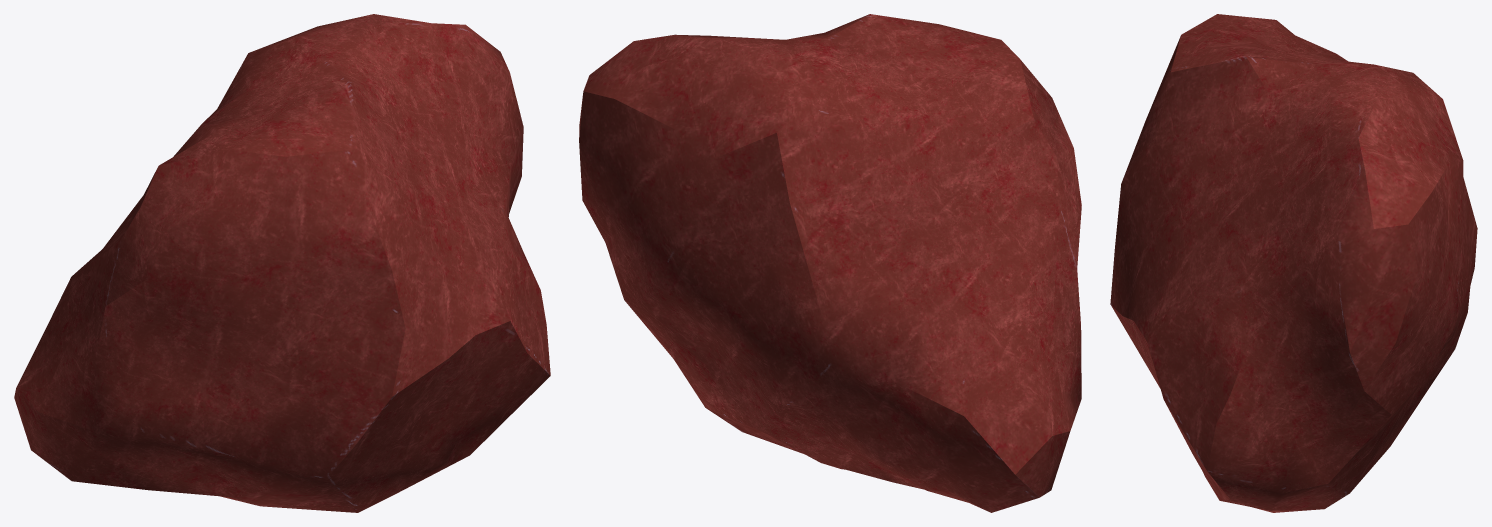
File: StoneStandard_2.fbx
3 views of the same model, side by side, from view 1: azimuth 30°, elevation 25°; view 2: azimuth 150°, elevation 25°; view 3: azimuth 270°, elevation 25° (orthographic).
Visible parts, largest first — view 1: StoneStandard_2; view 2: StoneStandard_2; view 3: StoneStandard_2.
Part boxes in pixels (x1,y1,x2,y2): StoneStandard_2: (14,14,550,512); StoneStandard_2: (579,14,1081,512); StoneStandard_2: (1110,14,1477,512).
Size of the model in its own units: 131 by 115 by 85.77.
1 material, 1 textured.
